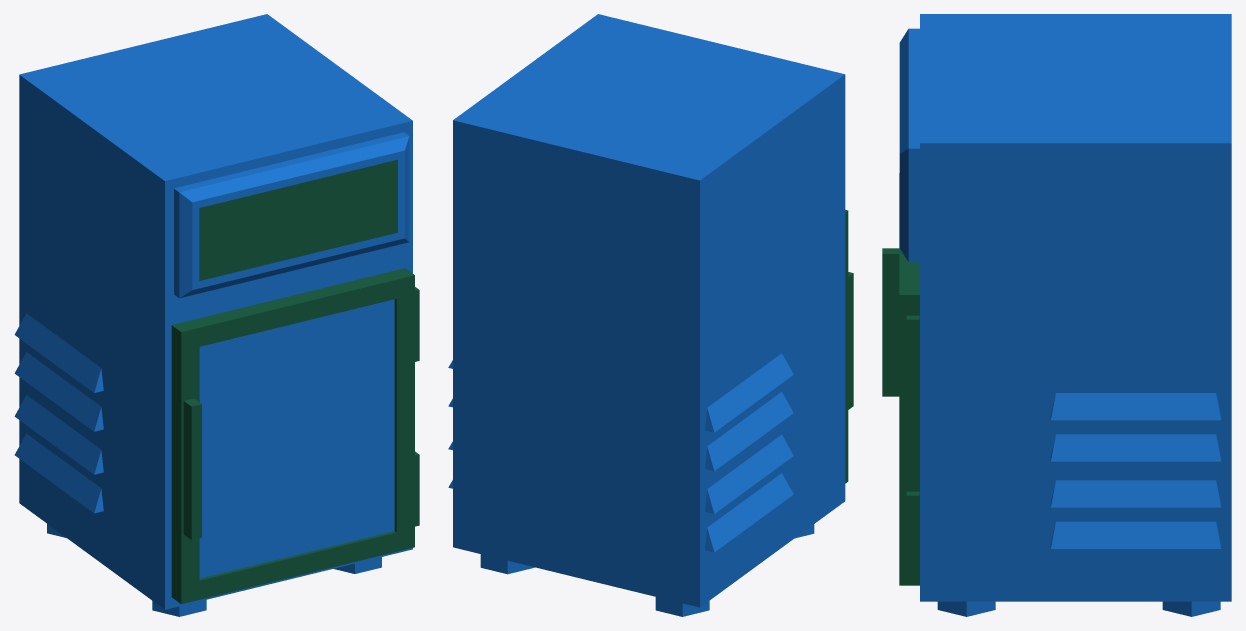
File: T_mini_fridge.fbx
The picture shows the model from 3 angles, left to right: view 1: azimuth 30°, elevation 25°; view 2: azimuth 150°, elevation 25°; view 3: azimuth 270°, elevation 25°; orthographic projection. The views are drawn at different scales.
Visible parts, largest first — view 1: mini_fridge, Cube_2; view 2: mini_fridge, Cube_2; view 3: mini_fridge, Cube_2.
Part boxes in pixels (x1,y1,x2,y2): mini_fridge: (14,14,412,616); Cube_2: (171,268,419,604); mini_fridge: (448,14,845,616); Cube_2: (845,210,853,483); mini_fridge: (899,14,1231,616); Cube_2: (882,173,919,585).
Bounding box in the file's own units: 51.71 × 82.73 × 54.78.
